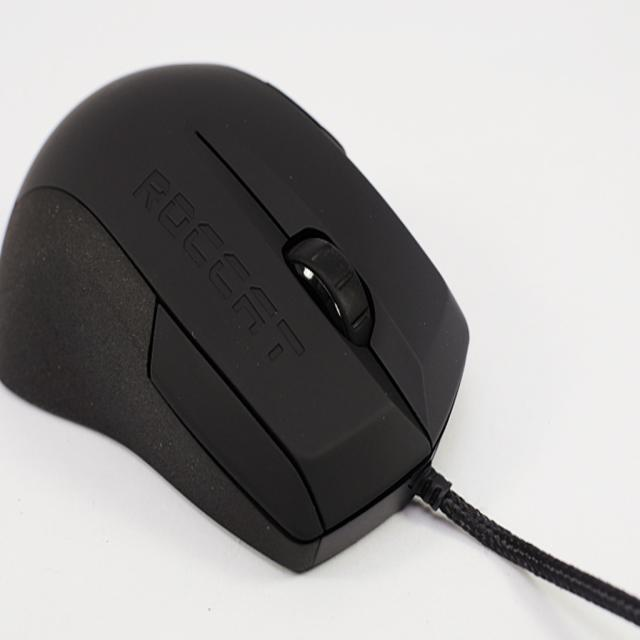Computer-mouse: (0, 62, 471, 575)
